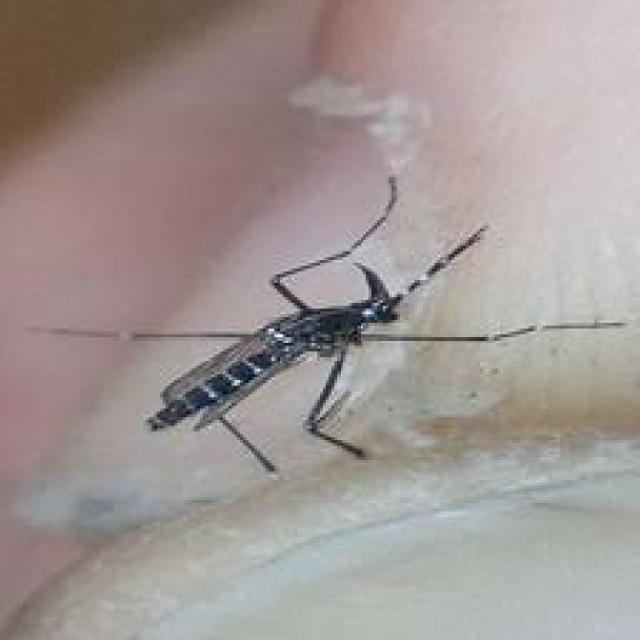Aedes albopictus: (24, 173, 627, 476)
